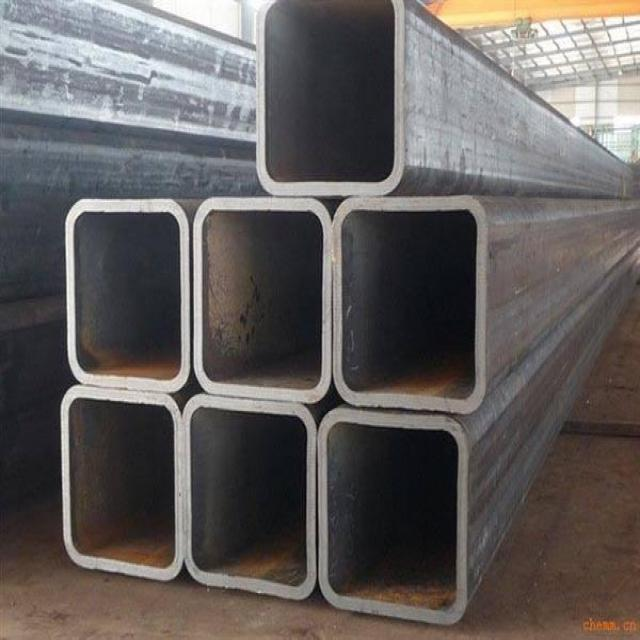pipe: (331, 192, 496, 414), (316, 406, 471, 629), (190, 194, 337, 406), (254, 0, 407, 198), (180, 390, 320, 605), (64, 195, 193, 396), (59, 384, 185, 586)
